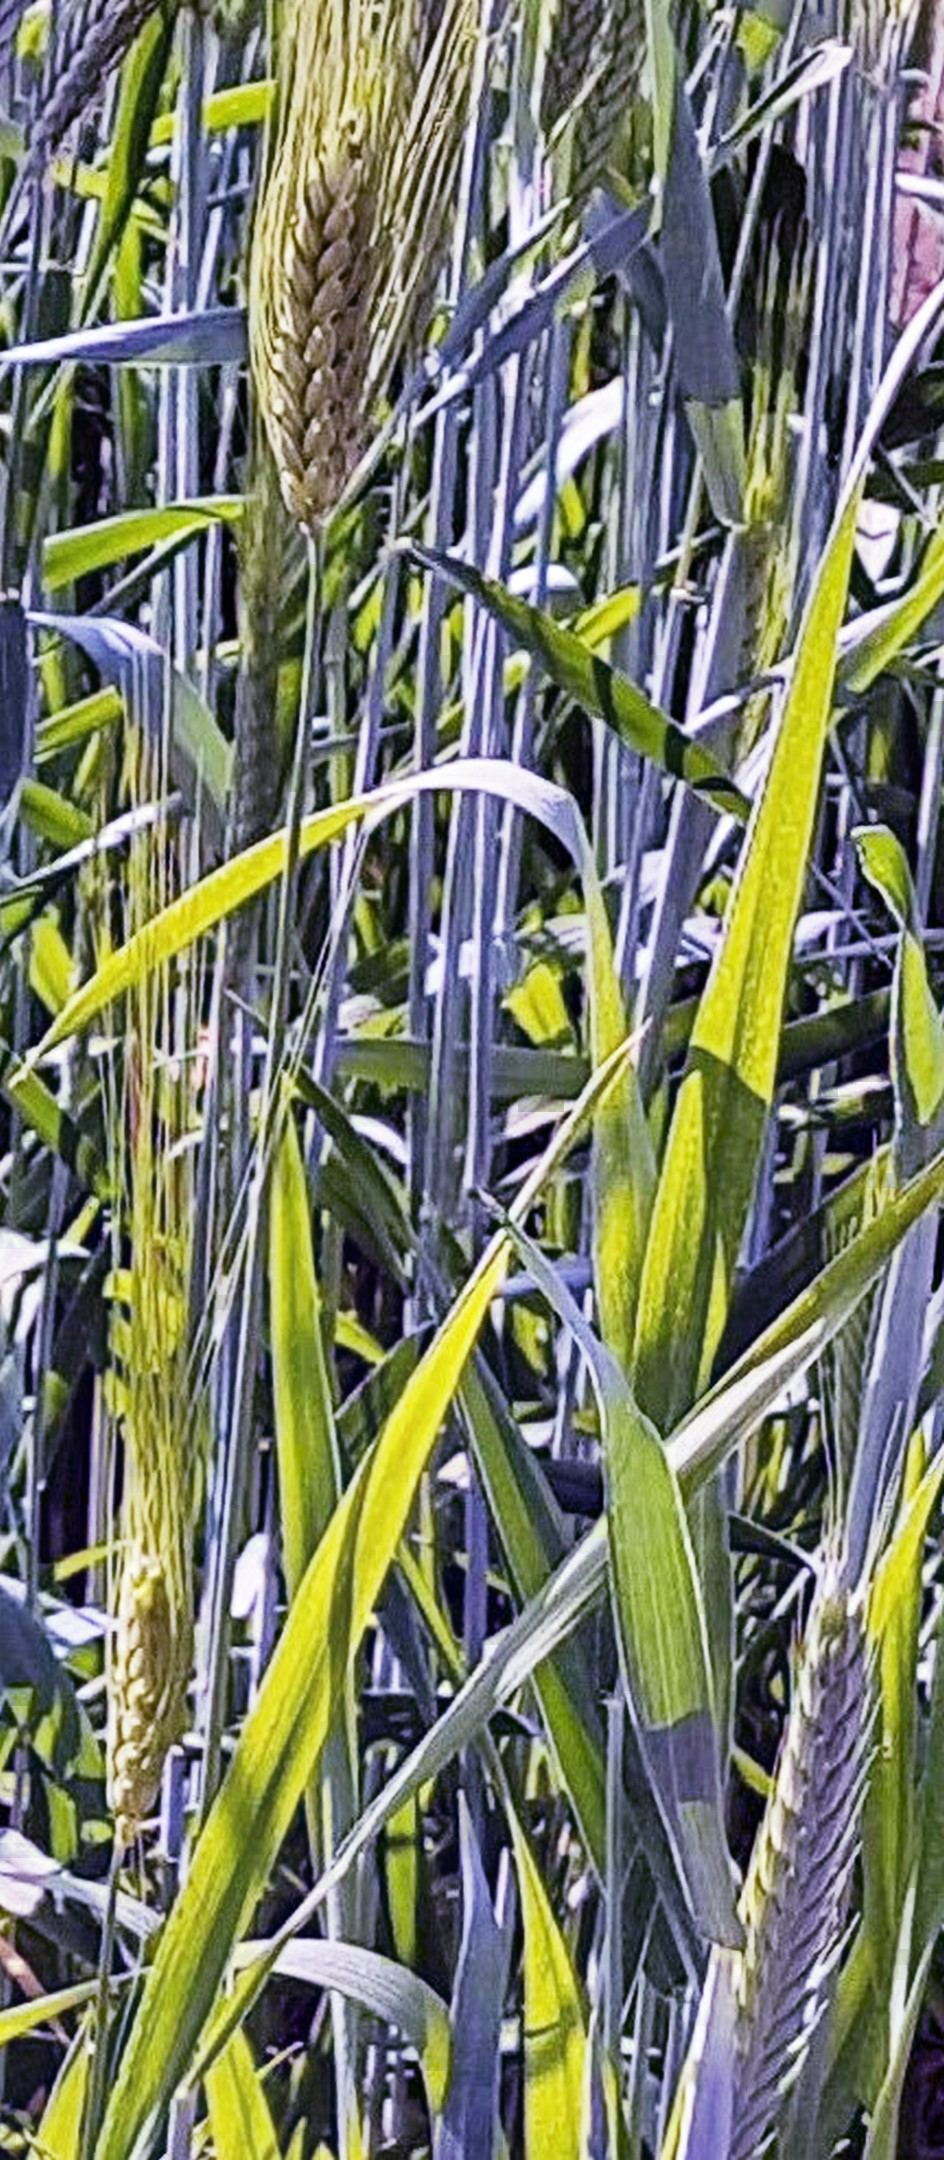Healthy Wheat: (209, 84, 434, 515), (735, 1577, 916, 2097)
